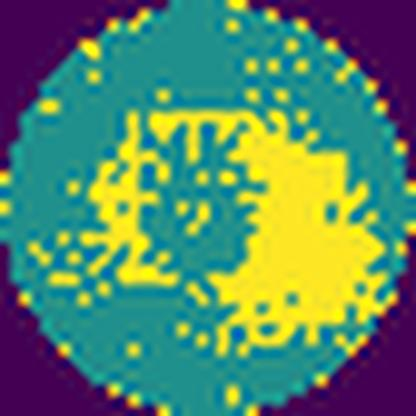Donut: (82, 99, 400, 357)
